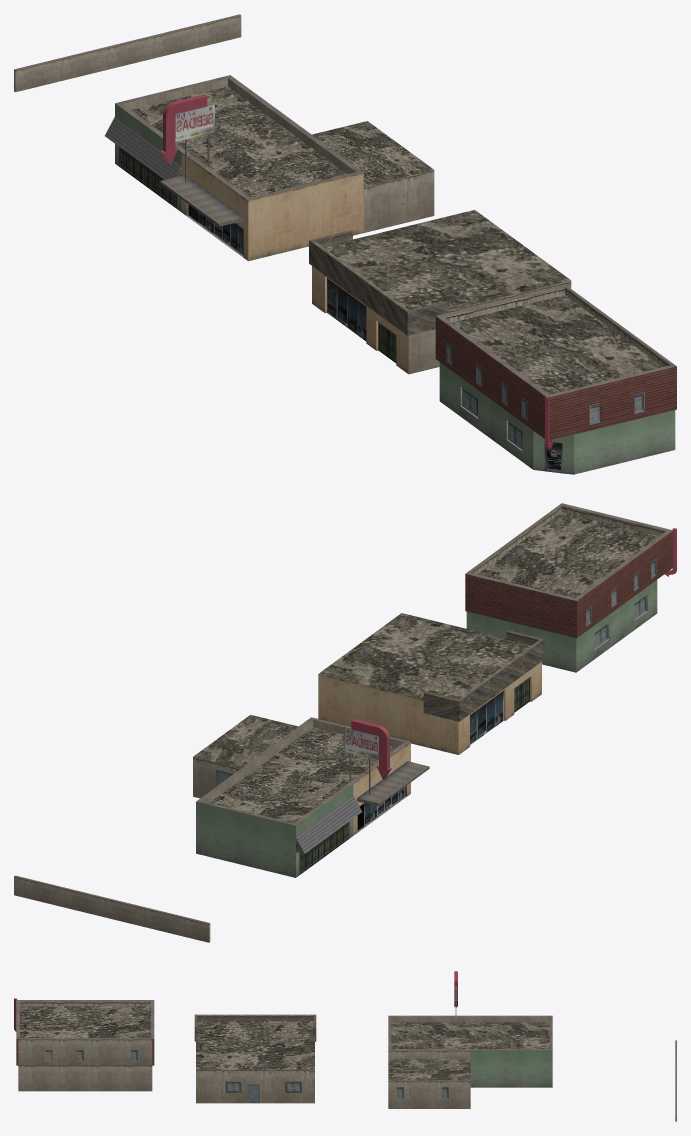
File: desn2_cn2blok1.obj
3 renders of one model, top to bottom at view 1: azimuth 30°, elevation 25°; view 2: azimuth 150°, elevation 25°; view 3: azimuth 270°, elevation 25°, orthographic. The views are drawn at different scales.
Visible parts, largest first — view 1: desn2_cn2blok1; view 2: desn2_cn2blok1; view 3: desn2_cn2blok1.
Boxes of the visible parts, left/top/right/bottom form: desn2_cn2blok1: left=14, top=14, right=676, bottom=474; desn2_cn2blok1: left=14, top=503, right=676, bottom=942; desn2_cn2blok1: left=14, top=971, right=676, bottom=1121.
Size of the model in its own units: 22.26 by 10.25 by 80.64.
Materials: 17 (17 with a texture image).
